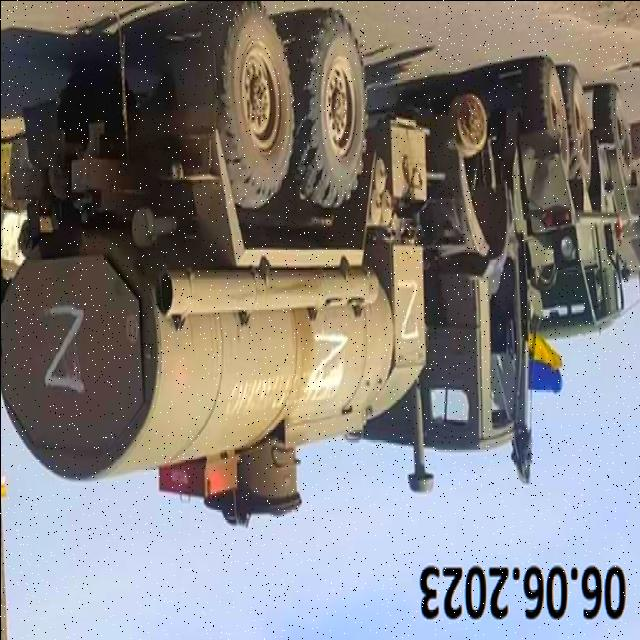TRUCK: (1, 4, 529, 534)
